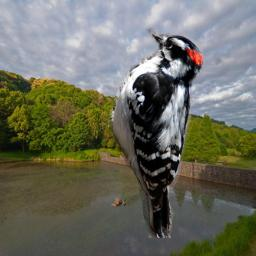Woodpecker: (108, 28, 207, 238)
